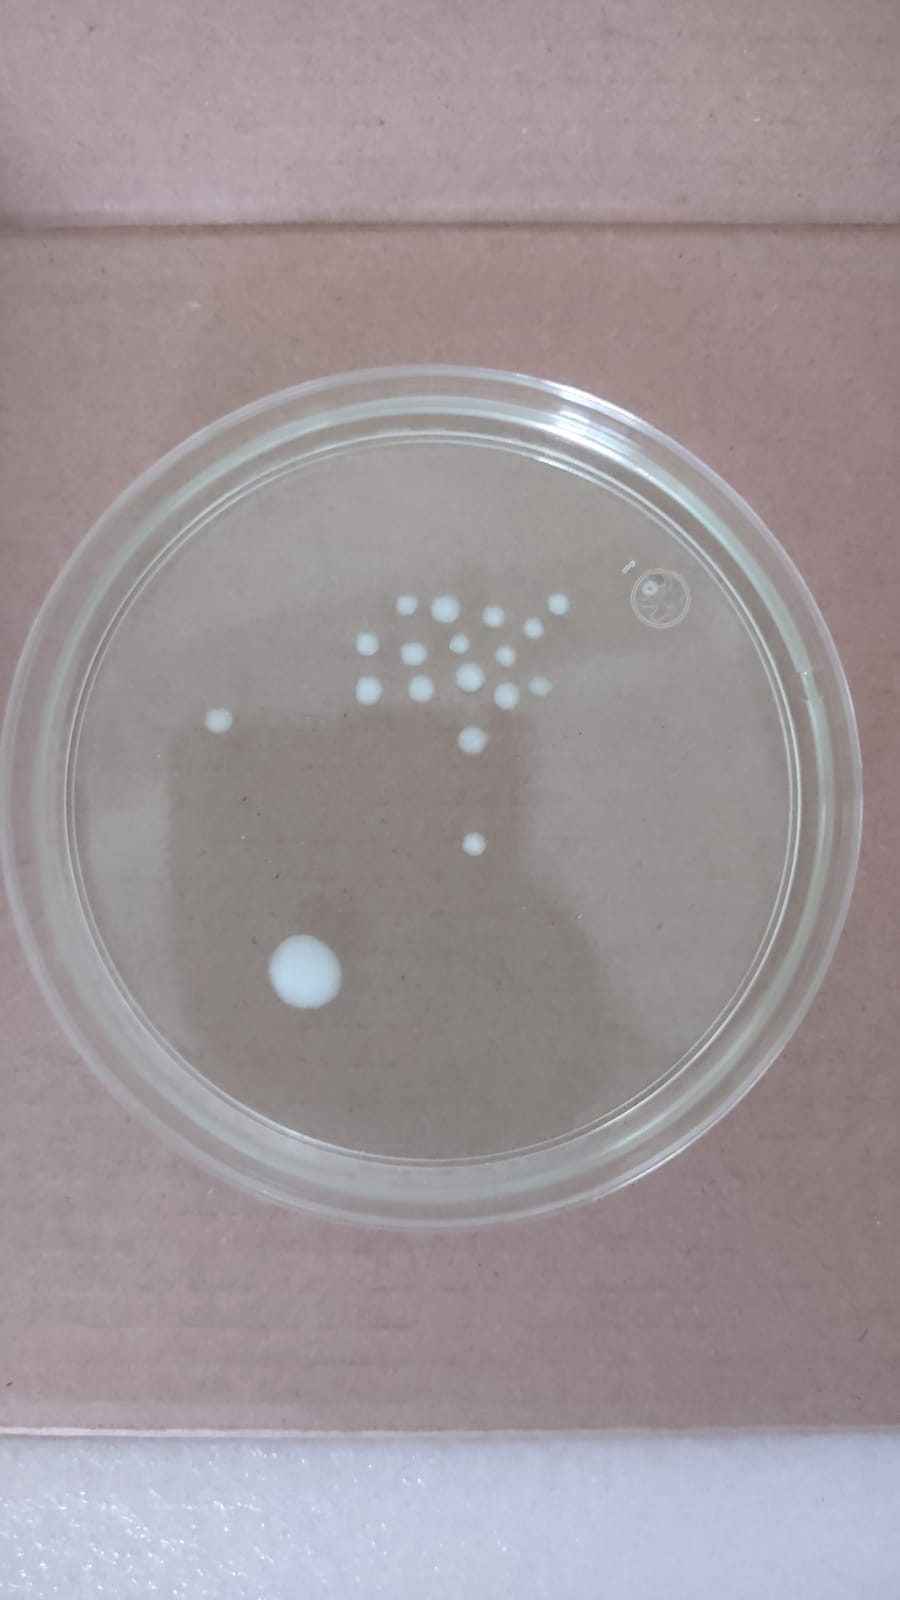Colonia: (263, 932, 346, 1007), (200, 703, 243, 740), (352, 673, 386, 707), (454, 660, 487, 693), (456, 724, 491, 755), (432, 593, 462, 624), (405, 673, 434, 703), (493, 680, 520, 713), (400, 638, 427, 666), (462, 831, 490, 857), (356, 627, 381, 657), (392, 592, 419, 619), (495, 643, 516, 670), (448, 631, 471, 656), (527, 675, 553, 698), (484, 601, 505, 627), (548, 593, 573, 615), (521, 618, 546, 638)
